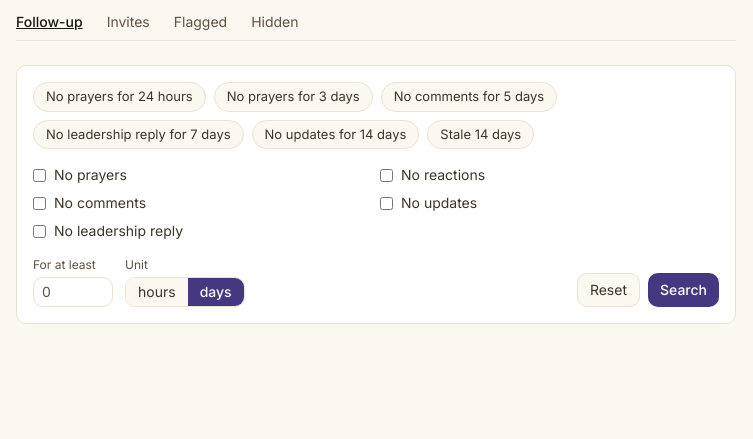
Test case: ModFollowupPage › shows empty-state copy only after a search returned 0 results
Expected: the text "no prayer requests match" is not shown
Step 1. Click the button "Search" → {"x": 684, "y": 290}, box [648,273,719,307]
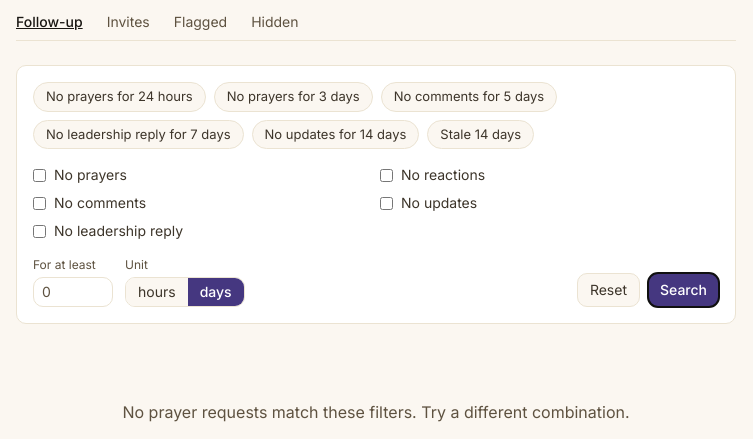
Result: the text "No prayer requests match" is shown at [122,402,630,422]
